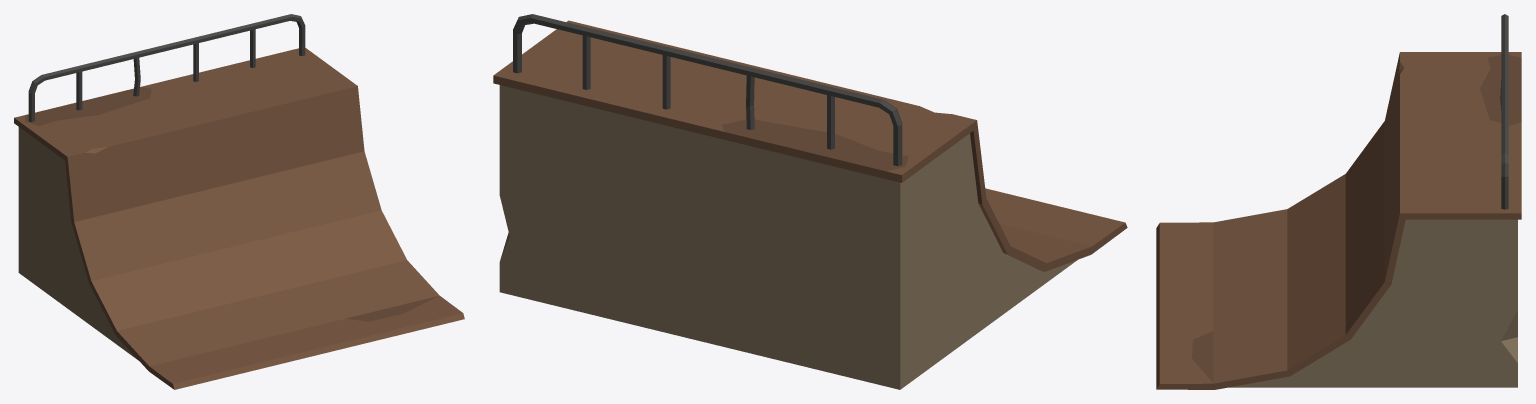
File: SM_Props_City_PlayGround_Skatepark_Wood_MiniHalf.fbx
3 views of the same model, side by side, from view 1: azimuth 30°, elevation 25°; view 2: azimuth 150°, elevation 25°; view 3: azimuth 270°, elevation 25° (orthographic). The views are drawn at different scales.
Parts seen in each view (by area): view 1: SM_Props_City_PlayGround_Skatepark_Wood_MiniHalf; view 2: SM_Props_City_PlayGround_Skatepark_Wood_MiniHalf; view 3: SM_Props_City_PlayGround_Skatepark_Wood_MiniHalf.
Part boxes in pixels (x1,y1,x2,y2): SM_Props_City_PlayGround_Skatepark_Wood_MiniHalf: [14, 14, 464, 389]; SM_Props_City_PlayGround_Skatepark_Wood_MiniHalf: [493, 14, 1127, 389]; SM_Props_City_PlayGround_Skatepark_Wood_MiniHalf: [1156, 14, 1521, 389].
Size of the model in its own units: 408 by 266 by 391.
